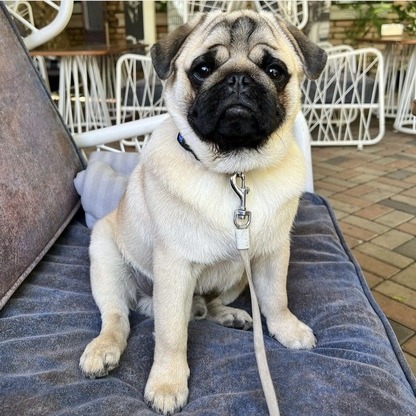Pug: (72, 4, 333, 416)
